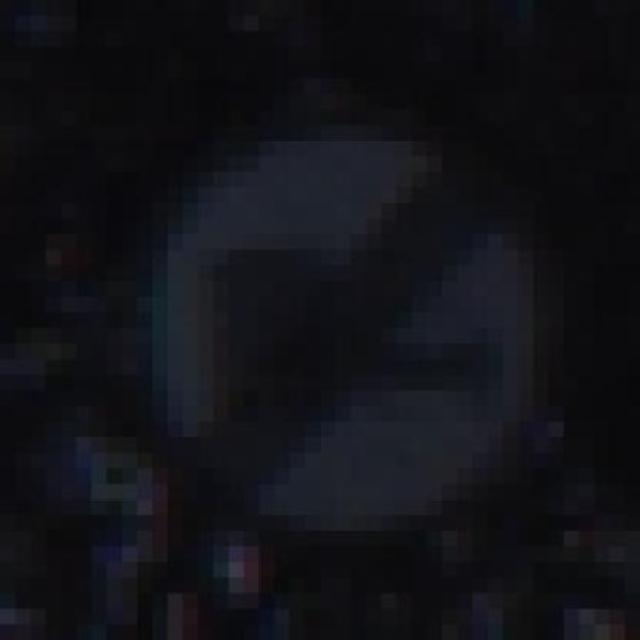Overtaking by trucks is prohibited: (107, 109, 548, 562)
